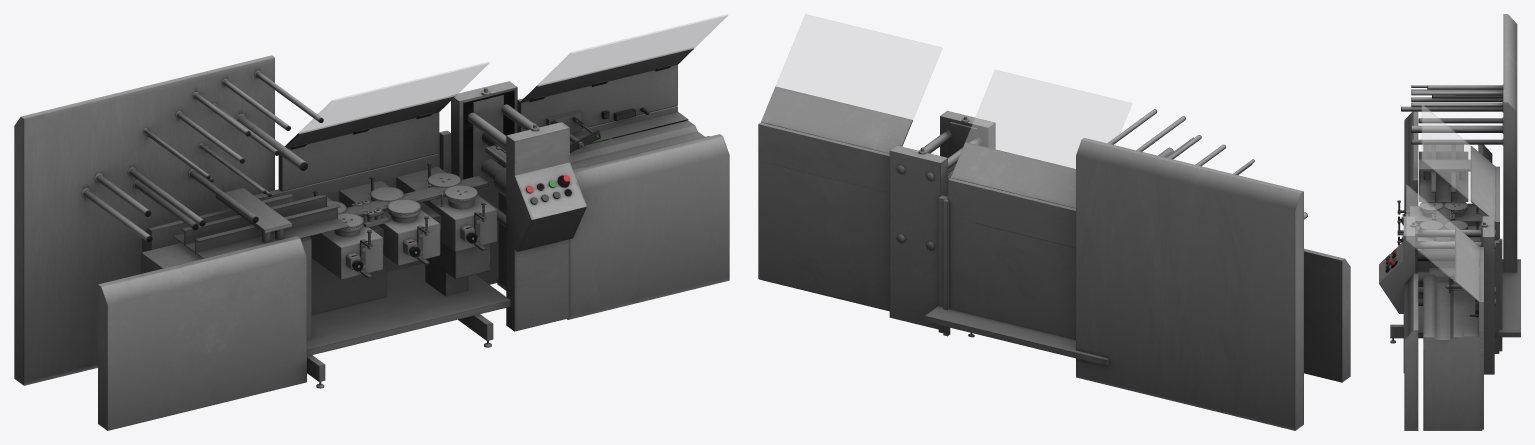
File: cortadora.fbx
3 renders of one model, left to right at view 1: azimuth 30°, elevation 25°; view 2: azimuth 150°, elevation 25°; view 3: azimuth 270°, elevation 25°, orthographic. The views are drawn at different scales.
Parts seen in each view (by area): view 1: pCube42, pCube34, pCube32, pCube11, polySurface21, polySurface22, pCube15, pCube44, pCube31, vidrio2, vidrio1, polySurface5 (+21 smaller); view 2: pCube42, pCube43, pCube14, vidrio2, vidrio1, pCube22, pCube34, pCube48, pCube44, pCube15, pCube16, pCube11 (+4 smaller); view 3: pCube31, pCube42, vidrio2, vidrio1, pCube32, pCube22, pCube39, pCube11, pCube16, pCube48, pCube34, polySurface21 (+35 smaller).
Boxes of the visible parts, bbox=[...] form: pCube42: bbox=[14, 55, 274, 385]; pCube34: bbox=[98, 236, 306, 430]; pCube32: bbox=[567, 134, 729, 319]; pCube11: bbox=[307, 263, 510, 356]; polySurface21: bbox=[514, 128, 586, 251]; polySurface22: bbox=[506, 122, 569, 331]; pCube15: bbox=[278, 112, 439, 191]; pCube44: bbox=[517, 64, 677, 132]; pCube31: bbox=[497, 111, 709, 290]; vidrio2: bbox=[537, 14, 727, 85]; vidrio1: bbox=[299, 62, 489, 133]; polySurface5: bbox=[396, 166, 497, 251]; pCube42: bbox=[1076, 138, 1303, 430]; pCube43: bbox=[758, 161, 889, 310]; pCube14: bbox=[949, 216, 1075, 339]; vidrio2: bbox=[776, 14, 942, 119]; vidrio1: bbox=[965, 70, 1131, 168]; pCube22: bbox=[889, 145, 947, 329]; pCube34: bbox=[1304, 248, 1350, 382]; pCube48: bbox=[761, 86, 912, 153]; pCube44: bbox=[758, 122, 889, 192]; pCube15: bbox=[948, 178, 1075, 247]; pCube16: bbox=[950, 142, 1075, 208]; pCube11: bbox=[925, 306, 1108, 365]; pCube31: bbox=[1423, 274, 1482, 430]; pCube42: bbox=[1503, 14, 1517, 272]; vidrio2: bbox=[1406, 185, 1455, 281]; vidrio1: bbox=[1422, 104, 1470, 200]; pCube32: bbox=[1404, 273, 1418, 430]; pCube22: bbox=[1482, 216, 1494, 374]; pCube39: bbox=[1419, 151, 1468, 201]; pCube11: bbox=[1418, 259, 1520, 337]; pCube16: bbox=[1470, 146, 1495, 221]; pCube48: bbox=[1455, 226, 1479, 302]; pCube34: bbox=[1404, 111, 1418, 213]; polySurface21: bbox=[1379, 241, 1403, 313].
Size of the model in its own units: 44.63 by 17.87 by 11.93.
